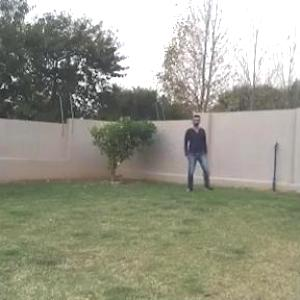follow: (186, 112, 205, 192)
